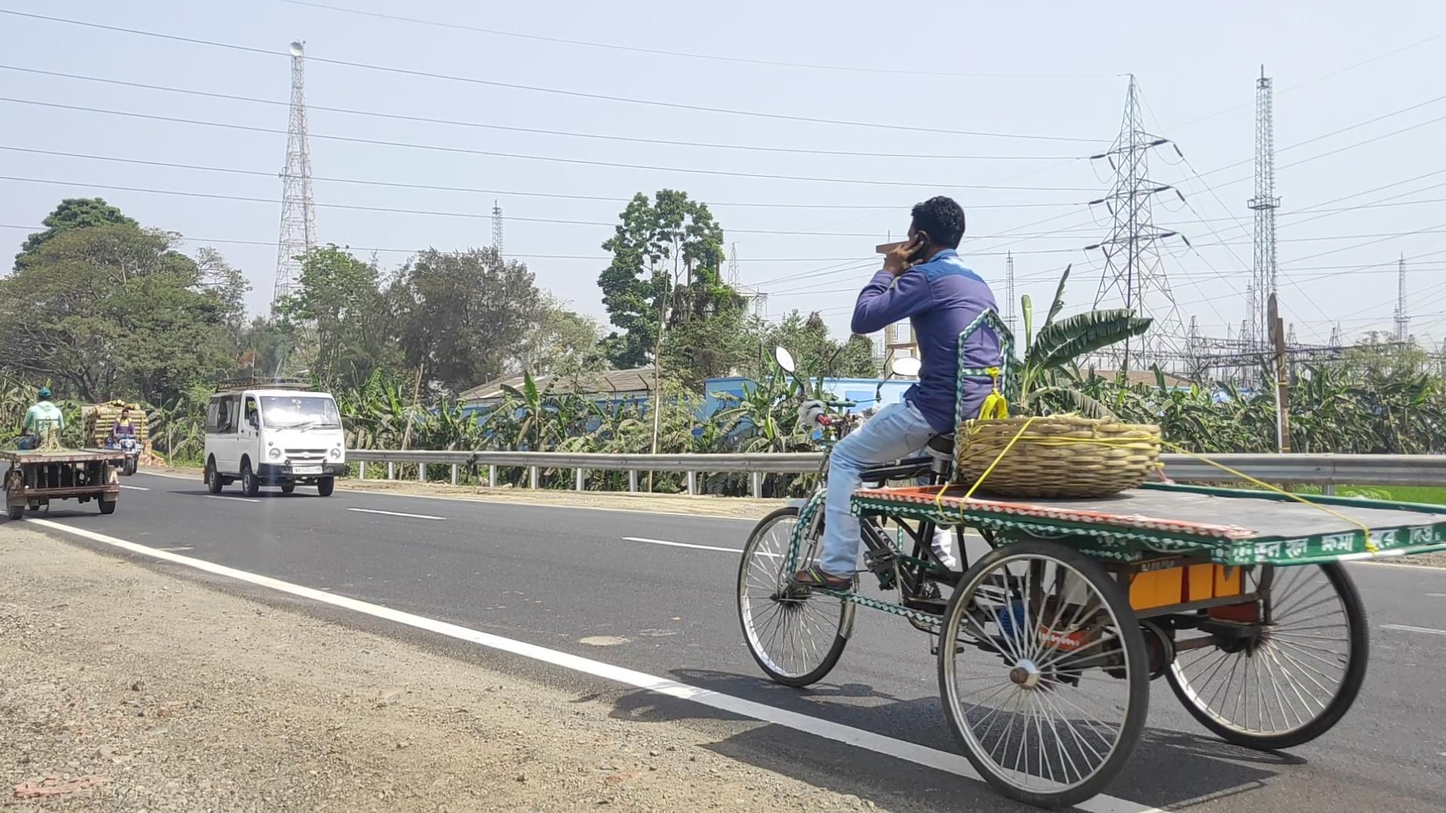van: (203, 376, 345, 498)
